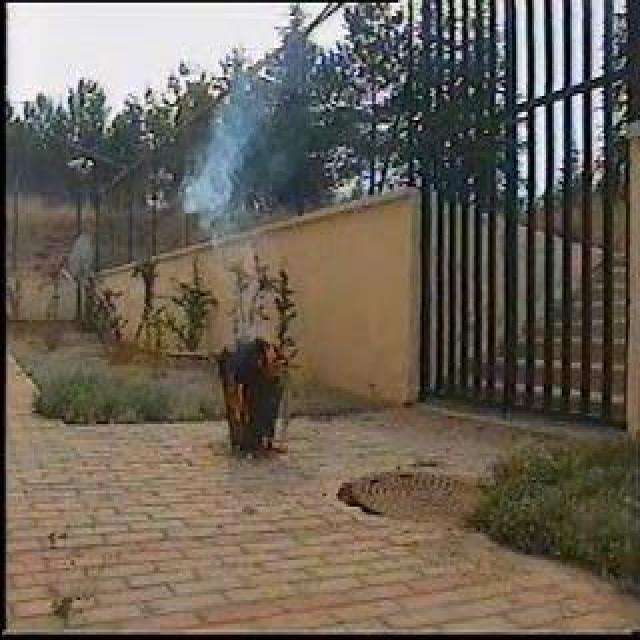fire: (225, 372, 251, 425)
smoke: (178, 76, 258, 223)
